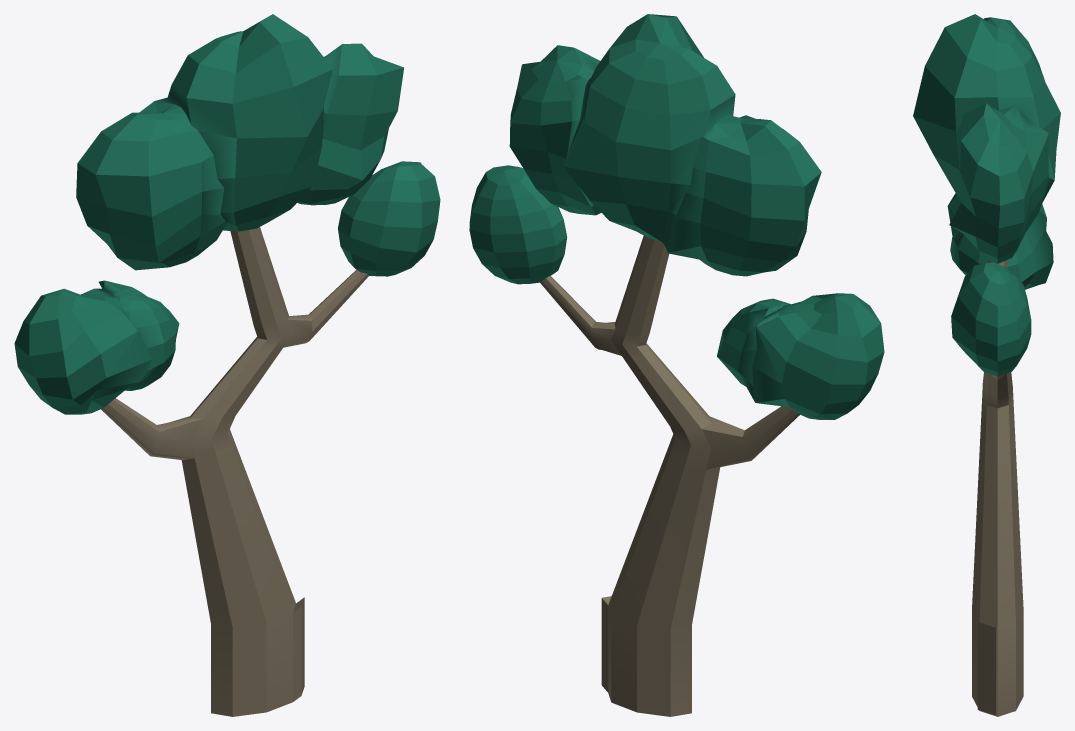
File: tree001.fbx
The picture shows the model from 3 angles, left to right: view 1: azimuth 30°, elevation 25°; view 2: azimuth 150°, elevation 25°; view 3: azimuth 270°, elevation 25°; orthographic projection.
Parts seen in each view (by area): view 1: tree001; view 2: tree001; view 3: tree001.
Boxes of the visible parts, bbox=[...] form: tree001: bbox=[14, 14, 440, 716]; tree001: bbox=[469, 14, 884, 716]; tree001: bbox=[913, 14, 1060, 716].
Bounding box in the file's own units: 12.82 × 4.02 × 20.44.
